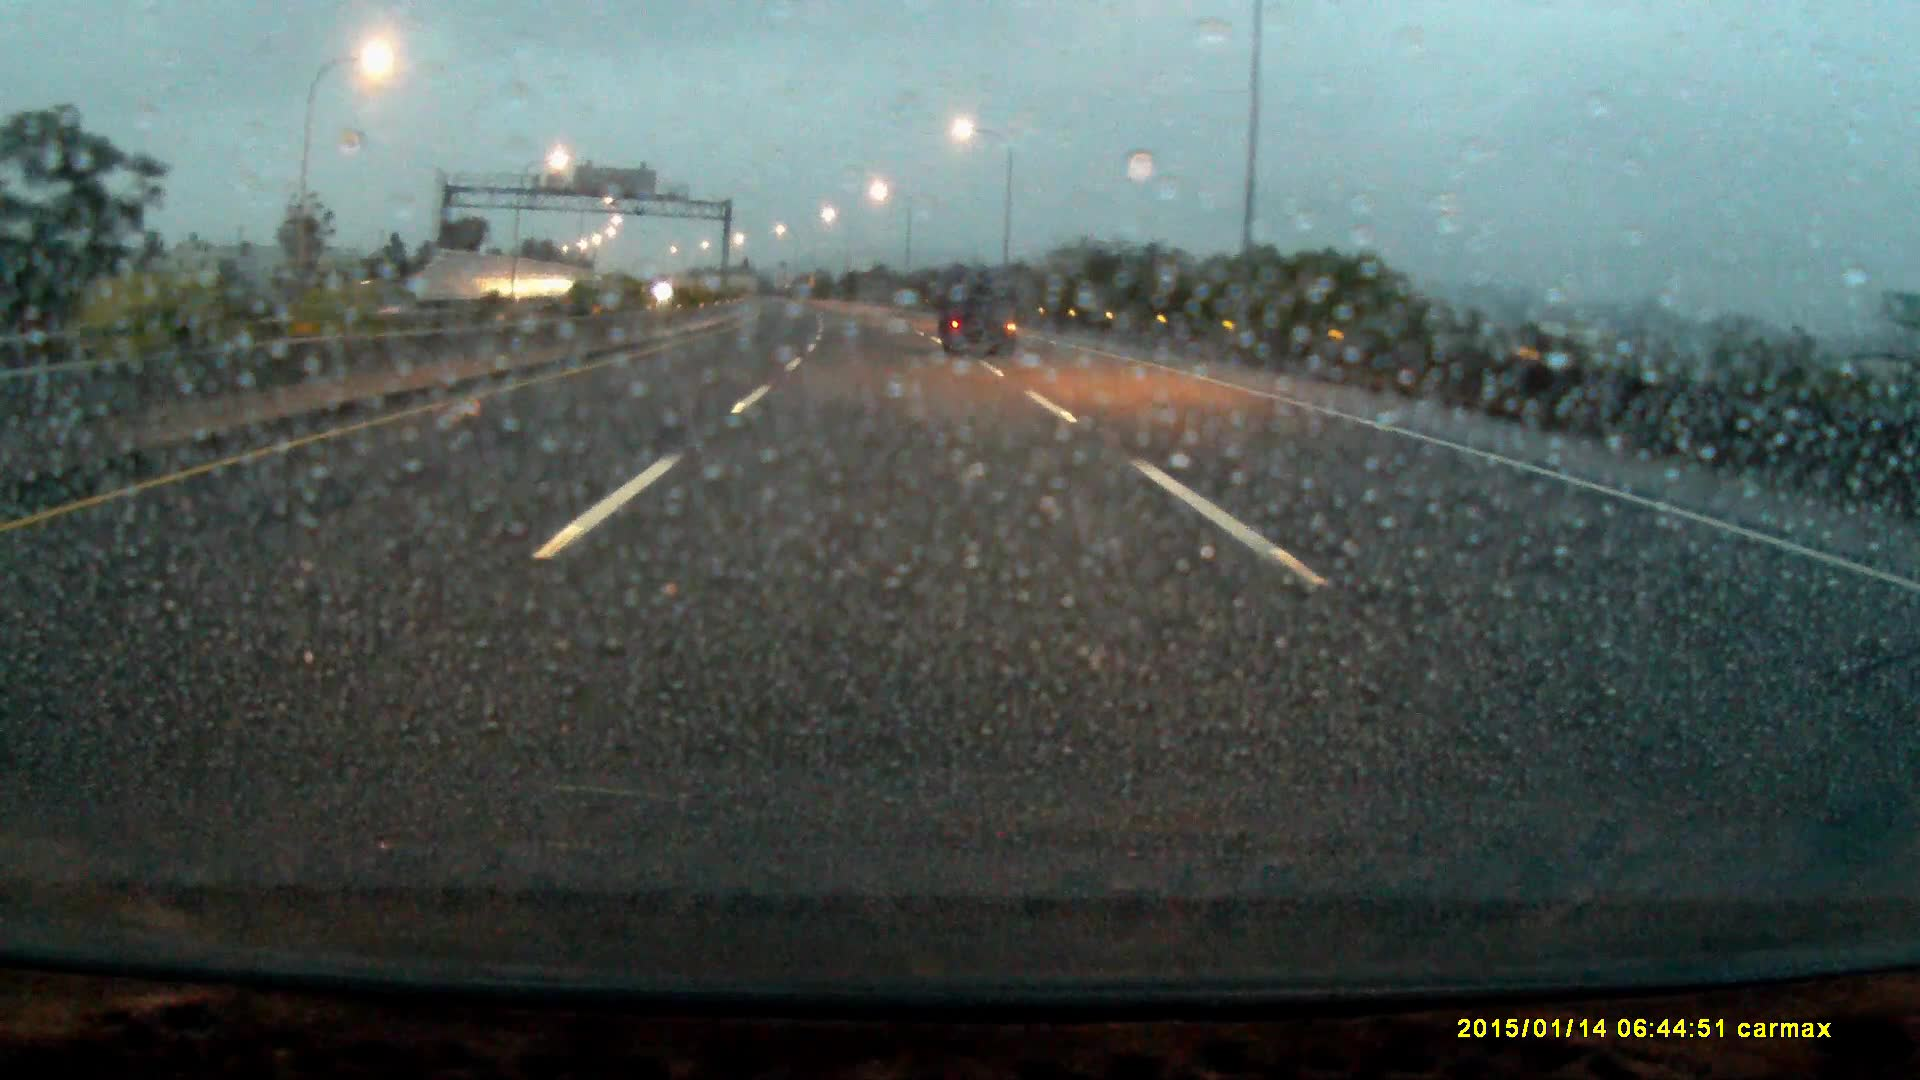vehicle: (938, 272, 1022, 357)
